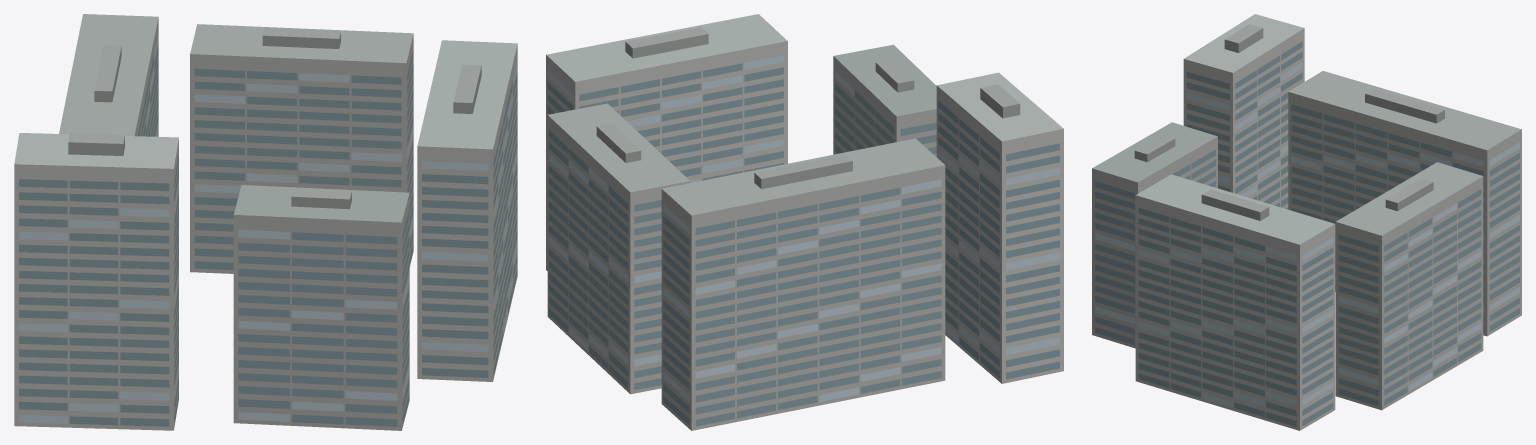
File: apt-a15601103.glb
3 views of the same model, side by side, from view 1: azimuth 30°, elevation 25°; view 2: azimuth 150°, elevation 25°; view 3: azimuth 270°, elevation 25° (orthographic). The views are drawn at different scales.
Parts seen in each view (by area): view 1: apt-a15601103; view 2: apt-a15601103; view 3: apt-a15601103.
Boxes of the visible parts, x1,y1,x2,y2 form: apt-a15601103: [14, 14, 517, 430]; apt-a15601103: [546, 14, 1063, 430]; apt-a15601103: [1092, 14, 1521, 430].
Bounding box in the file's own units: 110 × 54 × 95.92.
